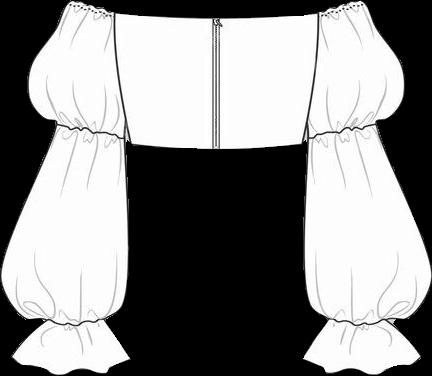Bodice: (113, 12, 319, 148)
Neckline: (115, 11, 322, 20)
Sleeve: (1, 1, 129, 373), (303, 1, 430, 373)
Sleeveline: (317, 0, 363, 39), (71, 0, 116, 36), (305, 122, 377, 140), (56, 122, 127, 140), (44, 315, 105, 326), (328, 316, 388, 324)
Waistline: (130, 139, 304, 149)
